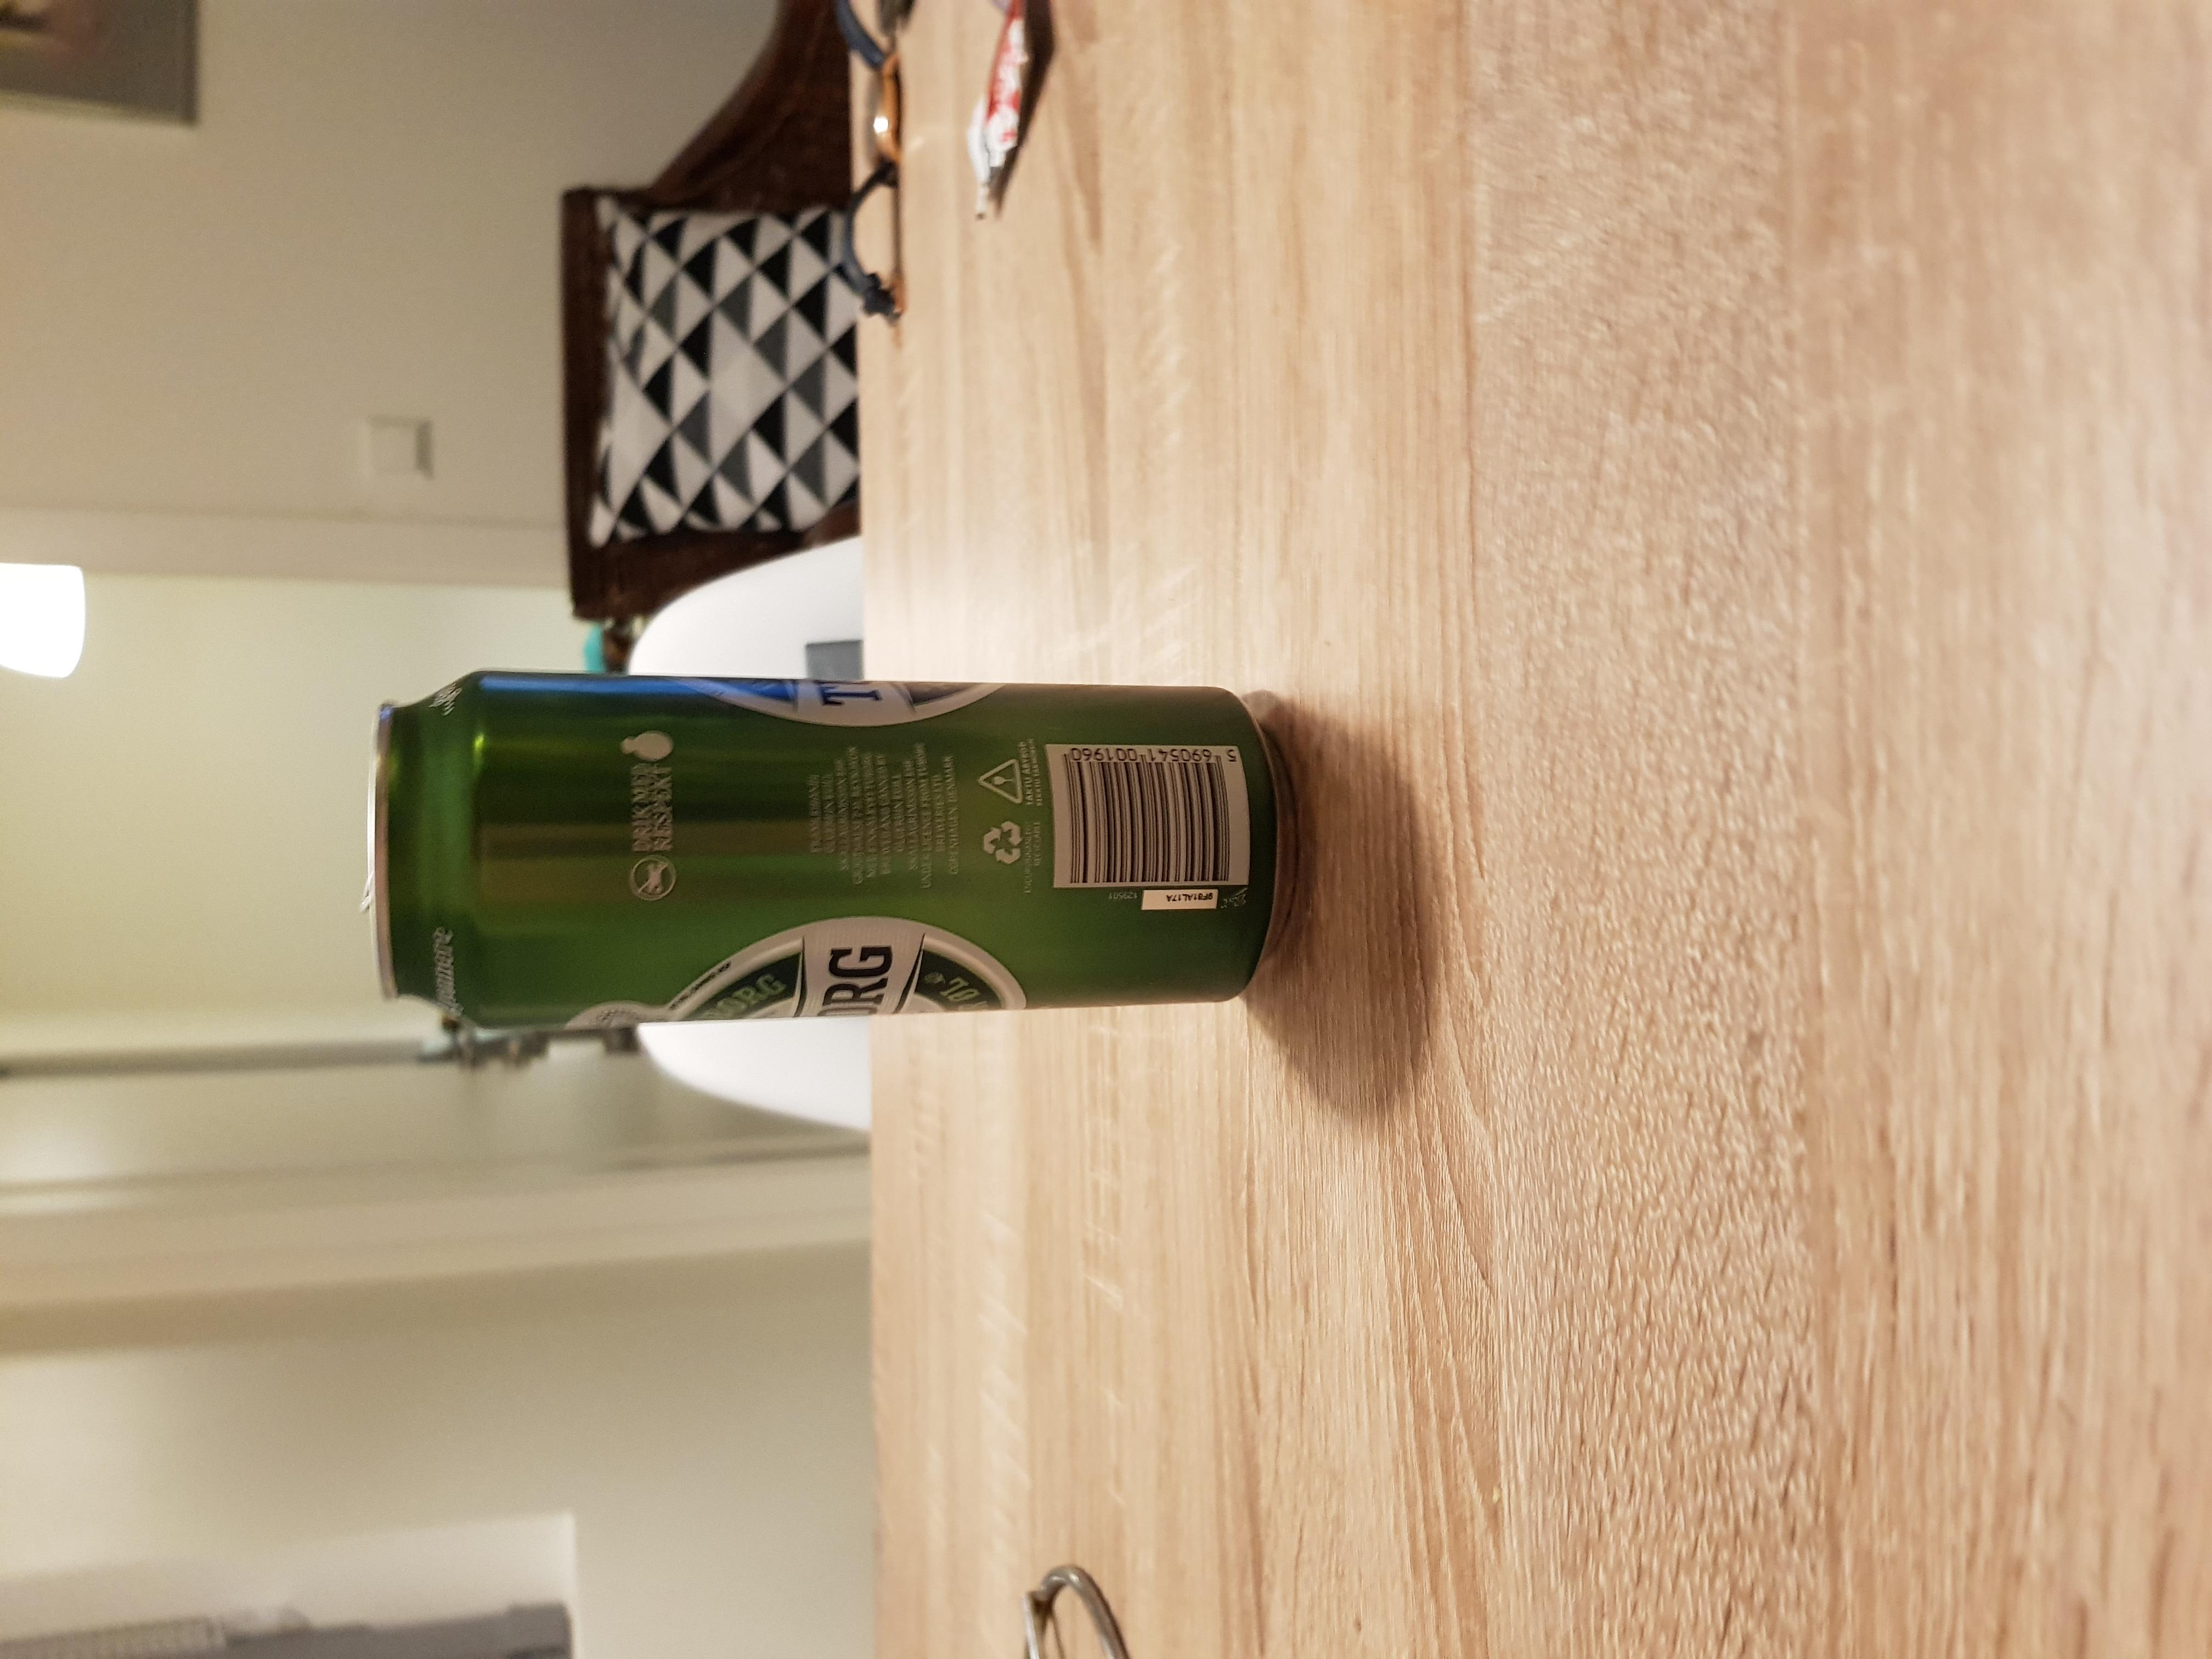Can: (366, 664, 1298, 1026)
